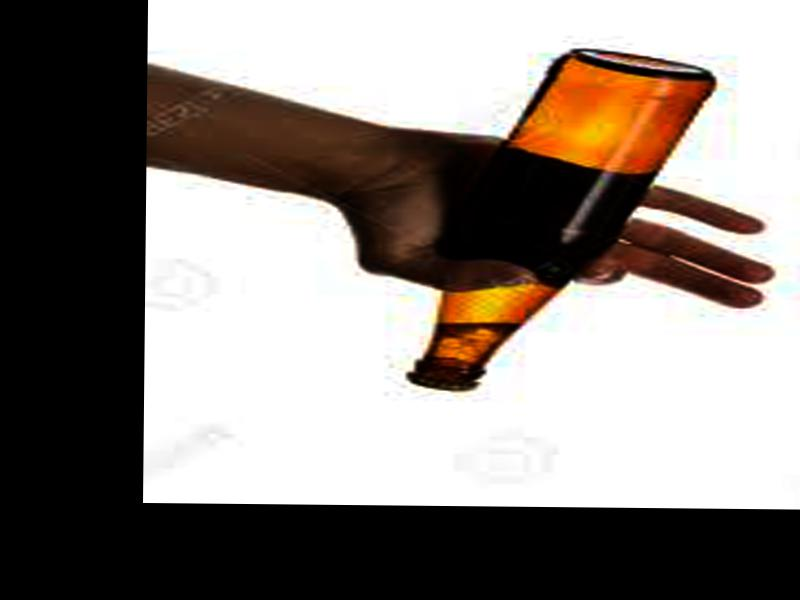Beer: (414, 49, 706, 385)
